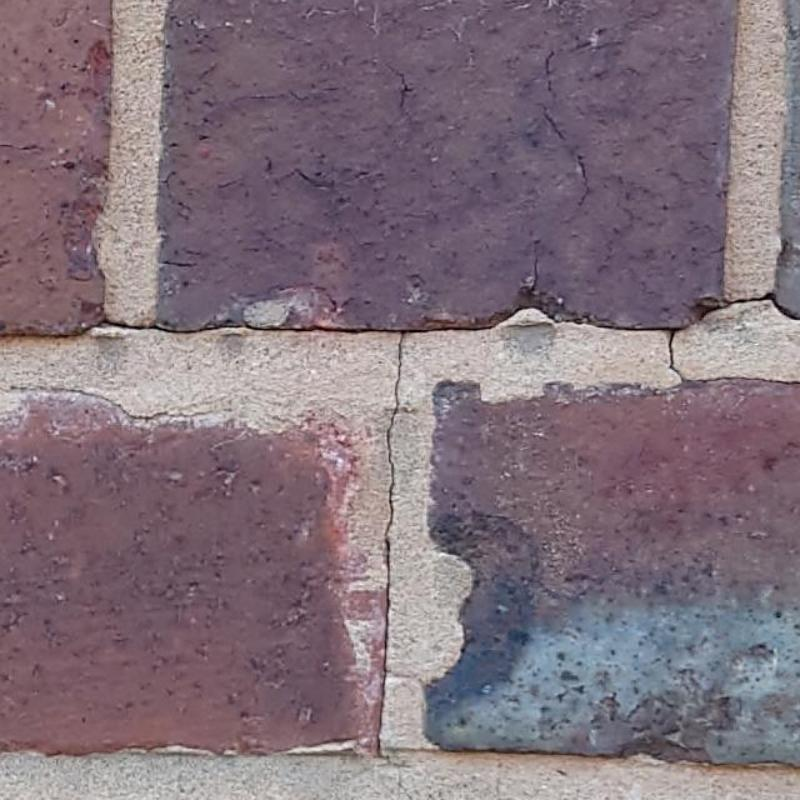pothole: (165, 306, 674, 334), (377, 332, 408, 757), (699, 292, 799, 321), (668, 326, 708, 382), (104, 319, 175, 331)
